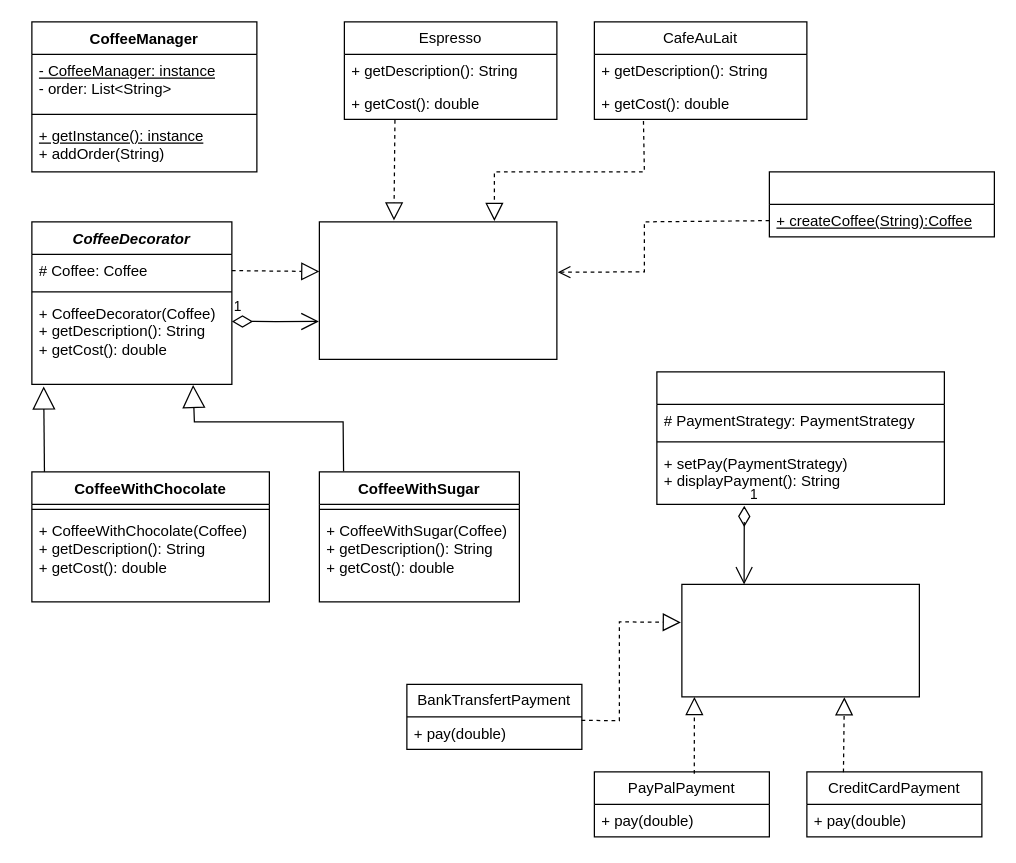
Image size: 1016x863. Some labels were removed from this diagram. The shapes that lost their labels are listed below. From the top down, each one's box as (x1, y1, x2, y2) in pixels, then its label:
(768, 171, 994, 237): CoffeeFactory
(318, 221, 557, 359): <<Interface>> Coffee + getDescription(): String + getCost(): double
(656, 371, 944, 504): ChooseStrategy
(681, 583, 919, 697): <<Interface>> PaymentStrategy + pay(double)
